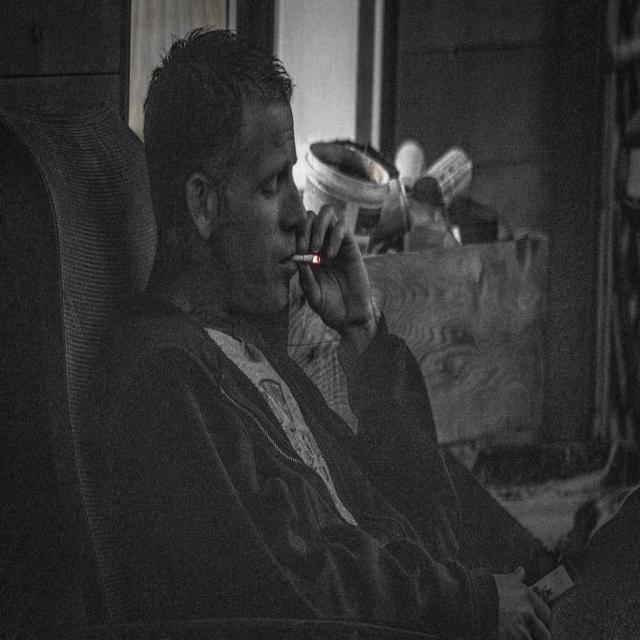Сигарета: (291, 251, 321, 268)
Тело: (142, 30, 412, 538)
